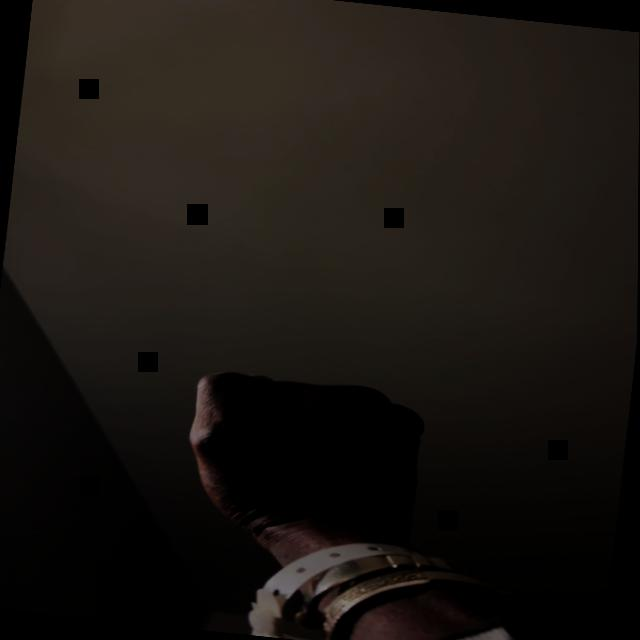Rock: (177, 364, 428, 561)
